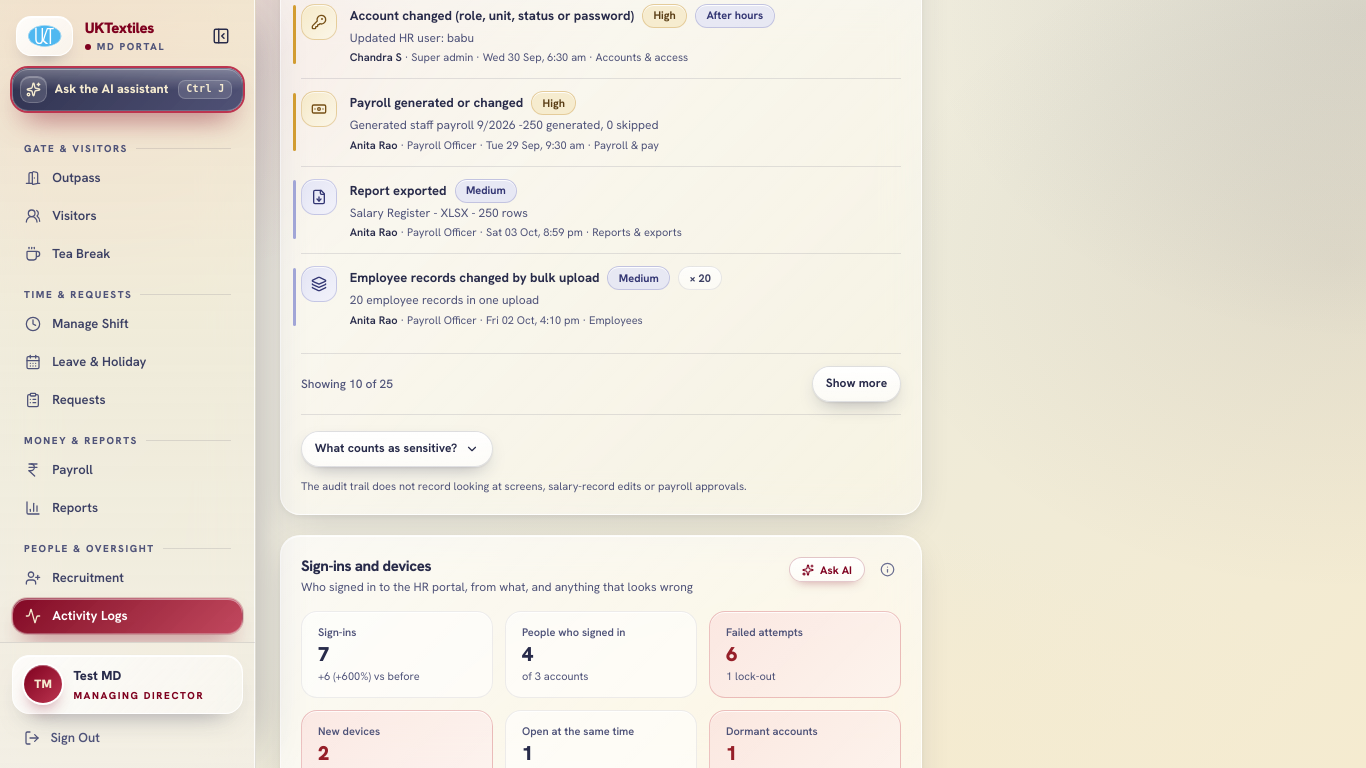
Test: Activity Logs: the sensitive actions › asks for ten more at a time
This screenshot has width=1366, height=768.
(page scrolled)
Click the button with test id "md-activity-show-more": x=856, y=384 [812,366,901,402]
(page scrolled)
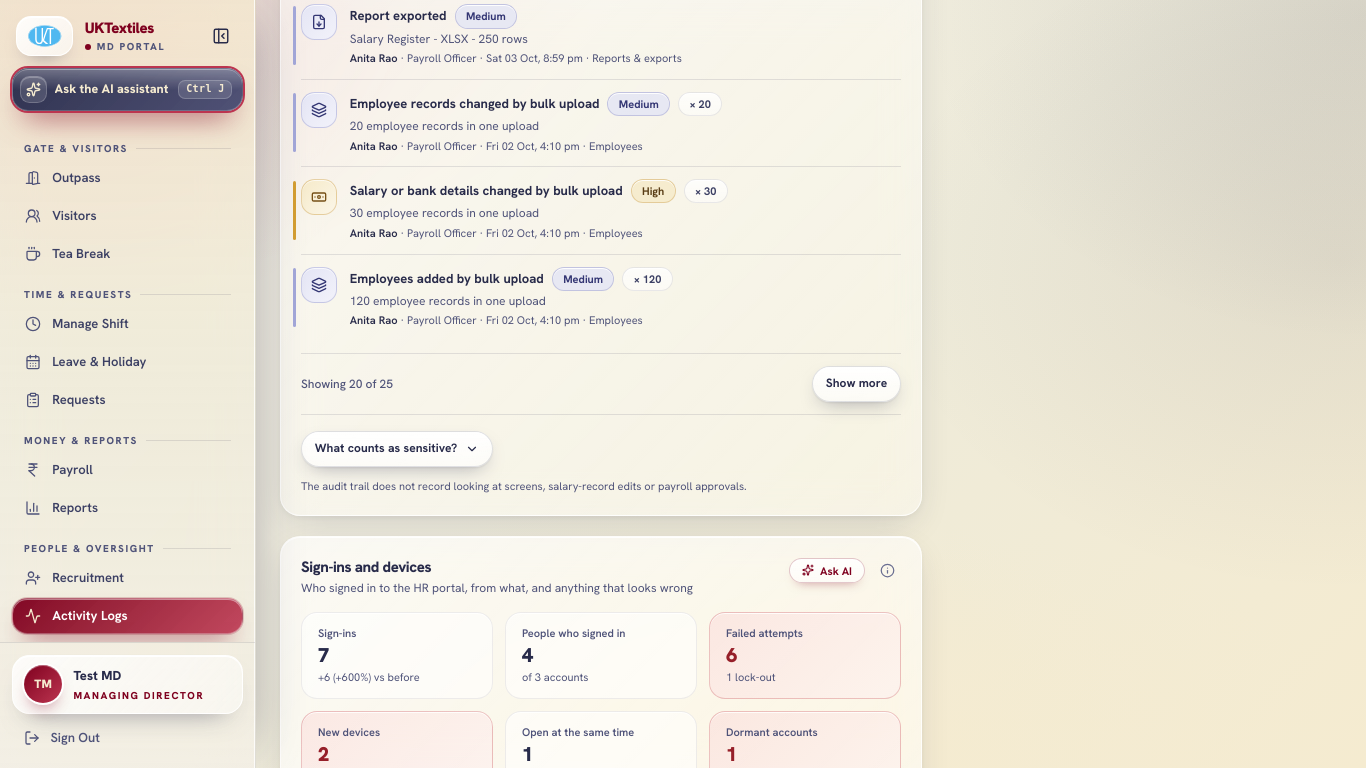
Click the button with test id "md-activity-show-more": x=856, y=384 [812,366,901,402]
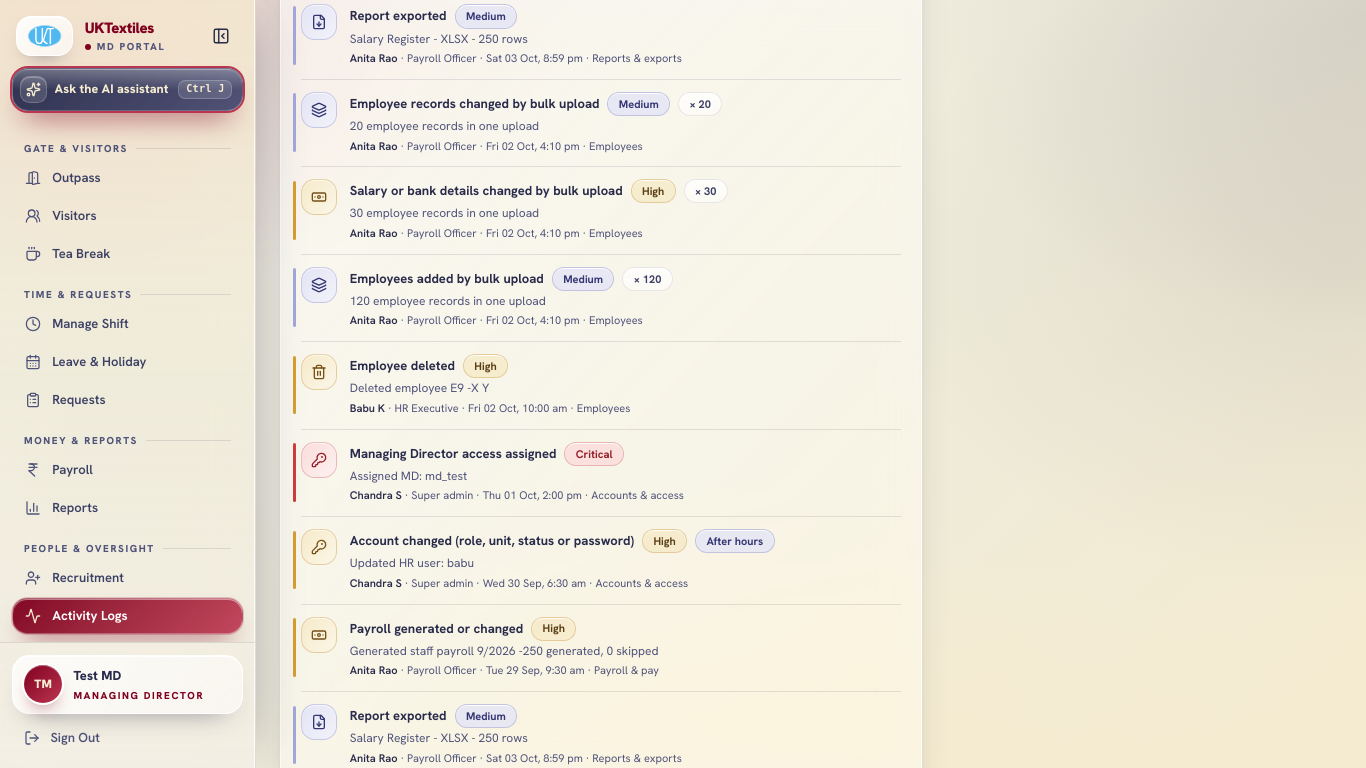
Check: the button with test id "md-activity-show-more" is gone
